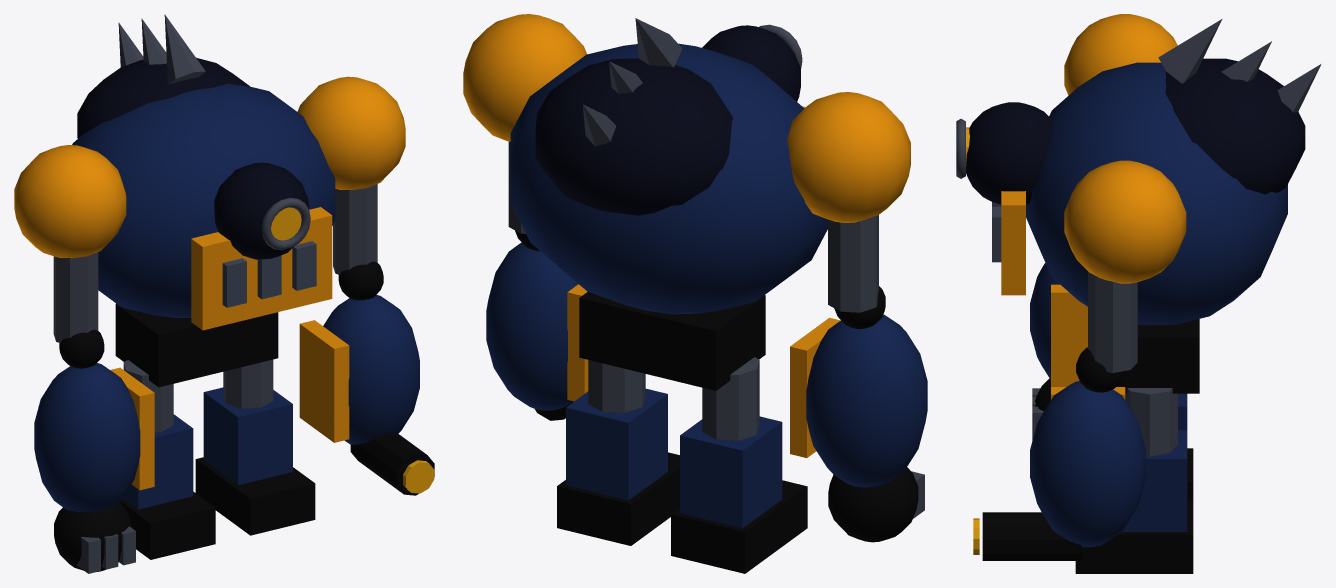
File: Enemy_armored.fbx
3 renders of one model, left to right at view 1: azimuth 30°, elevation 25°; view 2: azimuth 150°, elevation 25°; view 3: azimuth 270°, elevation 25°, orthographic. The views are drawn at different scales.
Parts seen in each view (by area): view 1: Enemy_armored; view 2: Enemy_armored; view 3: Enemy_armored.
Boxes of the visible parts, x1=… form: Enemy_armored: x1=14, y1=14, x2=434, y2=573; Enemy_armored: x1=463, y1=14, x2=927, y2=573; Enemy_armored: x1=956, y1=14, x2=1321, y2=573.
Size of the model in its own units: 0.752 by 0.9119 by 0.5899.
